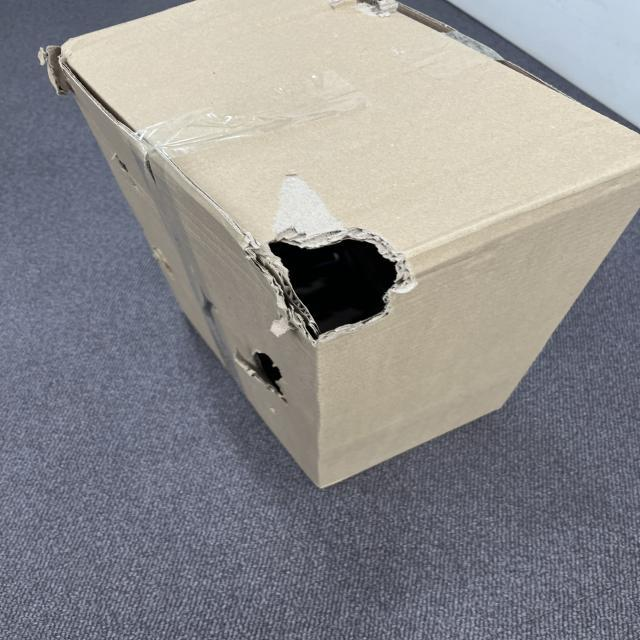hole: (265, 235, 401, 328), (231, 343, 295, 385)
